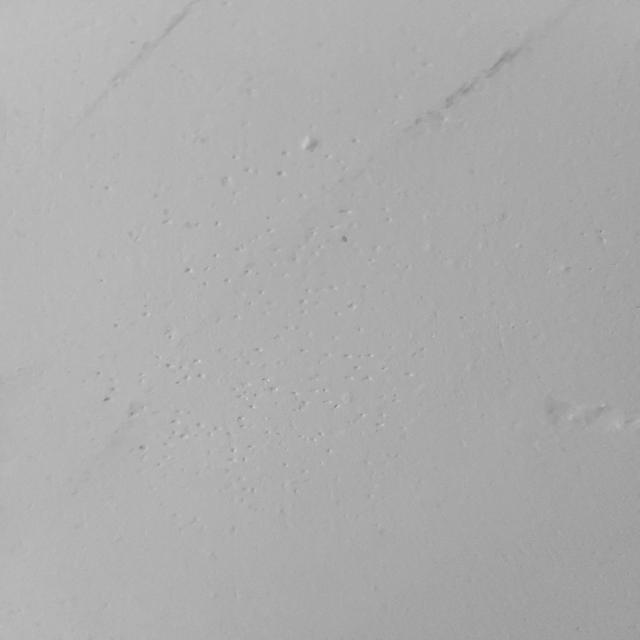rough and patchy surface: (54, 92, 446, 525), (467, 230, 637, 479)
stain marks: (398, 3, 590, 134), (53, 2, 209, 128)
